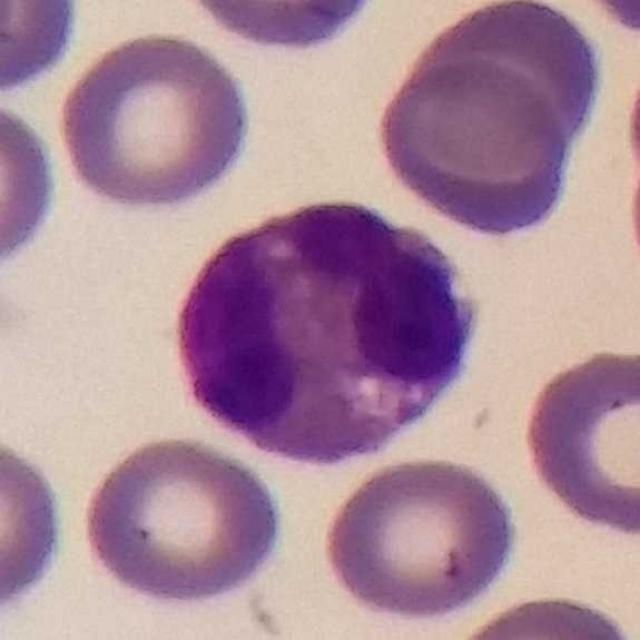Eosinophil: (159, 182, 494, 481), (583, 0, 640, 41)
RBC: (368, 53, 579, 244), (51, 26, 258, 217), (76, 430, 289, 611), (317, 452, 521, 625), (408, 0, 610, 164), (515, 343, 640, 541), (0, 429, 72, 625), (172, 0, 393, 58), (0, 92, 63, 284), (442, 589, 640, 640), (0, 1, 87, 98)
